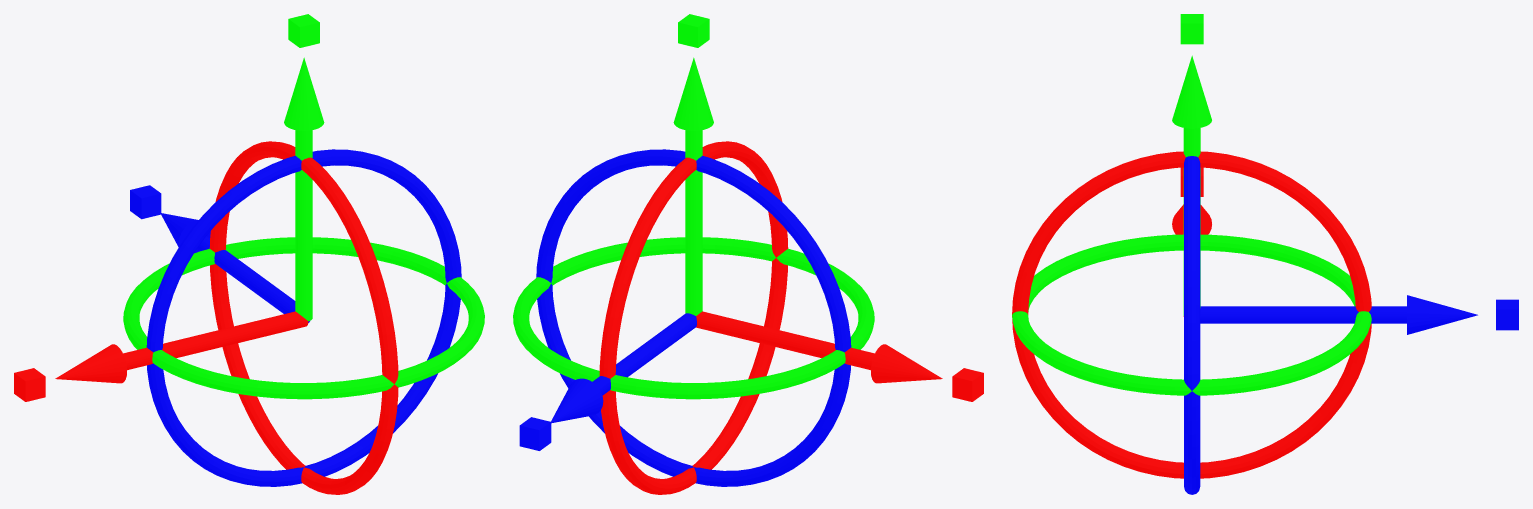
The model's file is gizmo.glb.
The picture shows the model from 3 angles, left to right: view 1: azimuth 30°, elevation 25°; view 2: azimuth 150°, elevation 25°; view 3: azimuth 270°, elevation 25°; orthographic projection.
Visible parts, largest first — view 1: Ring_Z, Ring_X, Ring_Y, Arrow_Y, Arrow_X, Arrow_Z, Cube_X, Cube_Z, Cube_Y; view 2: Ring_Z, Ring_X, Ring_Y, Arrow_Y, Arrow_X, Arrow_Z, Cube_Z, Cube_X, Cube_Y; view 3: Ring_X, Ring_Y, Ring_Z, Arrow_Z, Arrow_Y, Cube_Y, Cube_Z, Arrow_X.
Boxes of the visible parts, x1,y1,x2,y2 form: Ring_Z: [146, 149, 461, 486]; Ring_X: [209, 141, 398, 494]; Ring_Y: [123, 237, 484, 399]; Arrow_Y: [284, 57, 324, 321]; Arrow_X: [55, 311, 308, 383]; Arrow_Z: [160, 213, 309, 322]; Cube_X: [14, 368, 45, 401]; Cube_Z: [130, 185, 161, 219]; Cube_Y: [288, 14, 319, 47]; Ring_Z: [536, 149, 851, 486]; Ring_X: [599, 141, 788, 494]; Ring_Y: [513, 237, 874, 399]; Arrow_Y: [673, 57, 713, 315]; Arrow_X: [696, 311, 942, 383]; Arrow_Z: [551, 313, 696, 423]; Cube_Z: [519, 417, 551, 450]; Cube_X: [952, 368, 983, 401]; Cube_Y: [678, 14, 709, 47]; Ring_X: [1012, 151, 1371, 478]; Ring_Y: [1012, 234, 1371, 395]; Ring_Z: [1184, 156, 1200, 494]; Arrow_Z: [1200, 295, 1477, 334]; Arrow_Y: [1172, 55, 1211, 315]; Cube_Y: [1180, 14, 1203, 44]; Cube_Z: [1496, 299, 1518, 330]; Arrow_X: [1172, 204, 1211, 316].
Size of the model in its own units: 1.77 by 1.77 by 1.77.
